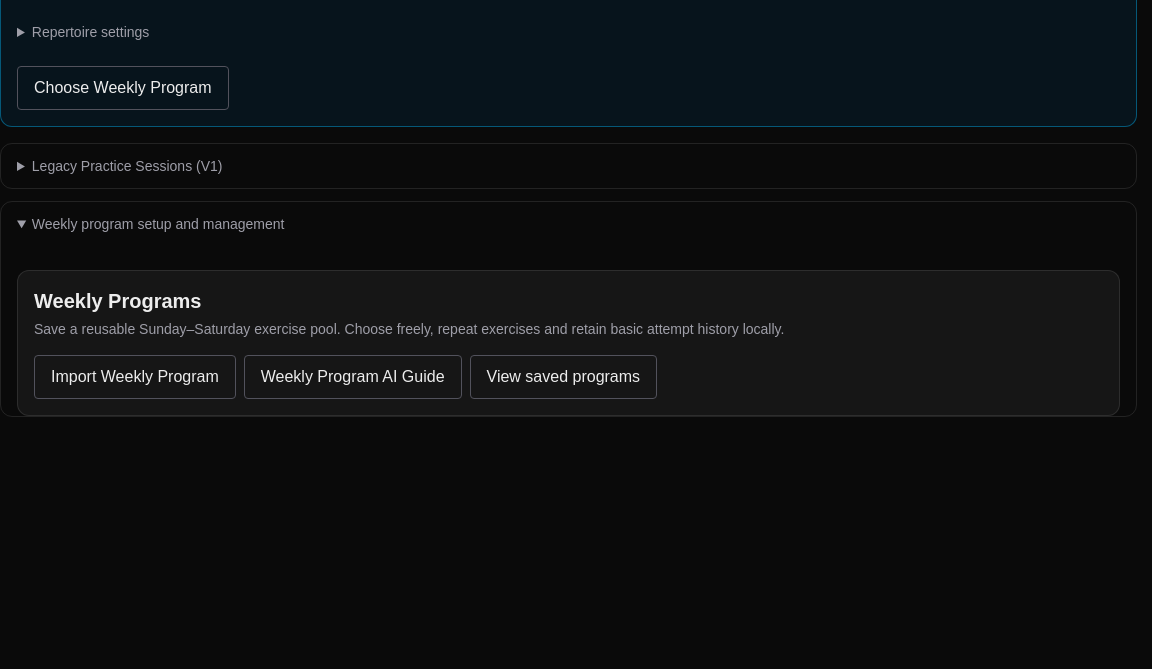
one-action morning launch through the existing V2 owner › does not designate a preferred program when definitions are viewed or manually practiced
What coordinates should you click on to do the following:
click the button "View saved programs"
I would click on:
 (563, 377)
Its box is [470,355,657,399].
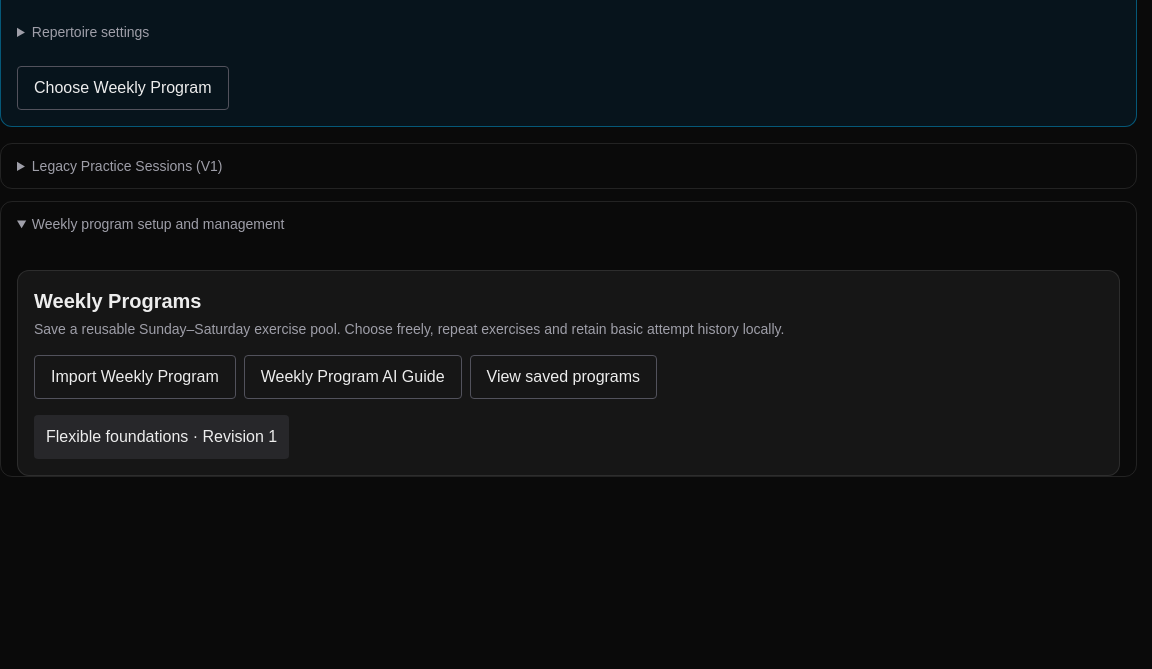
What coordinates should you click on to do the following:
click the button "Flexible foundations · Revision 1"
I would click on:
 (162, 437)
Its box is [34,415,289,459].
(page scrolled)
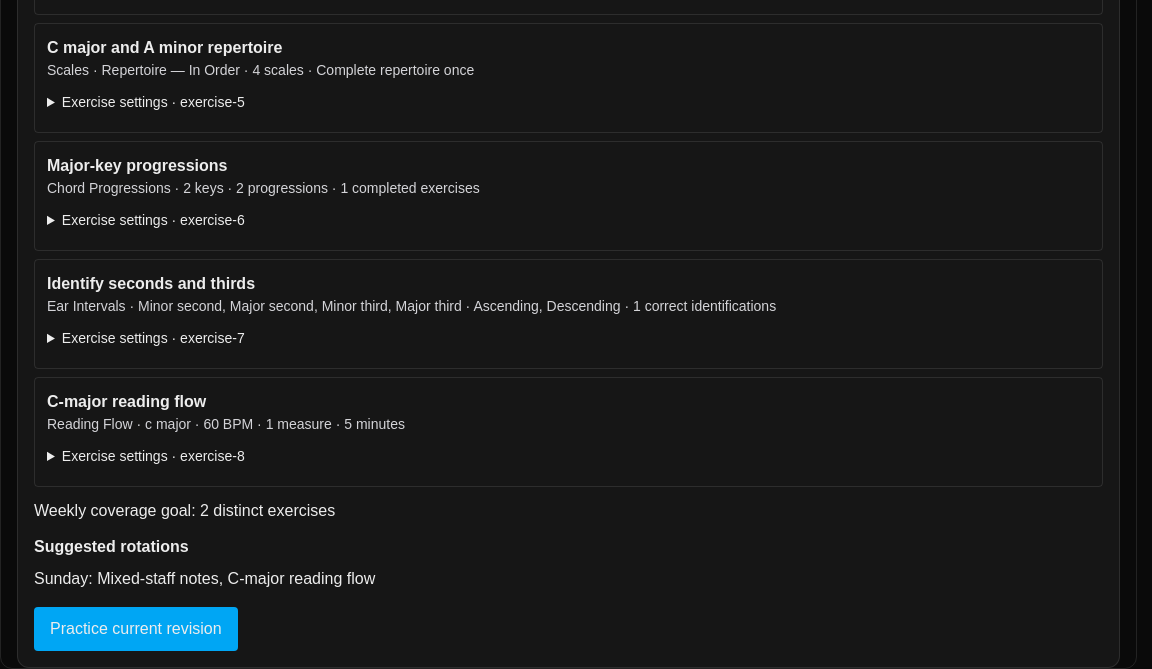
What coordinates should you click on to do the following:
click the button "Practice current revision"
I would click on:
 (136, 629)
Its box is [34,607,238,651].
(page scrolled)
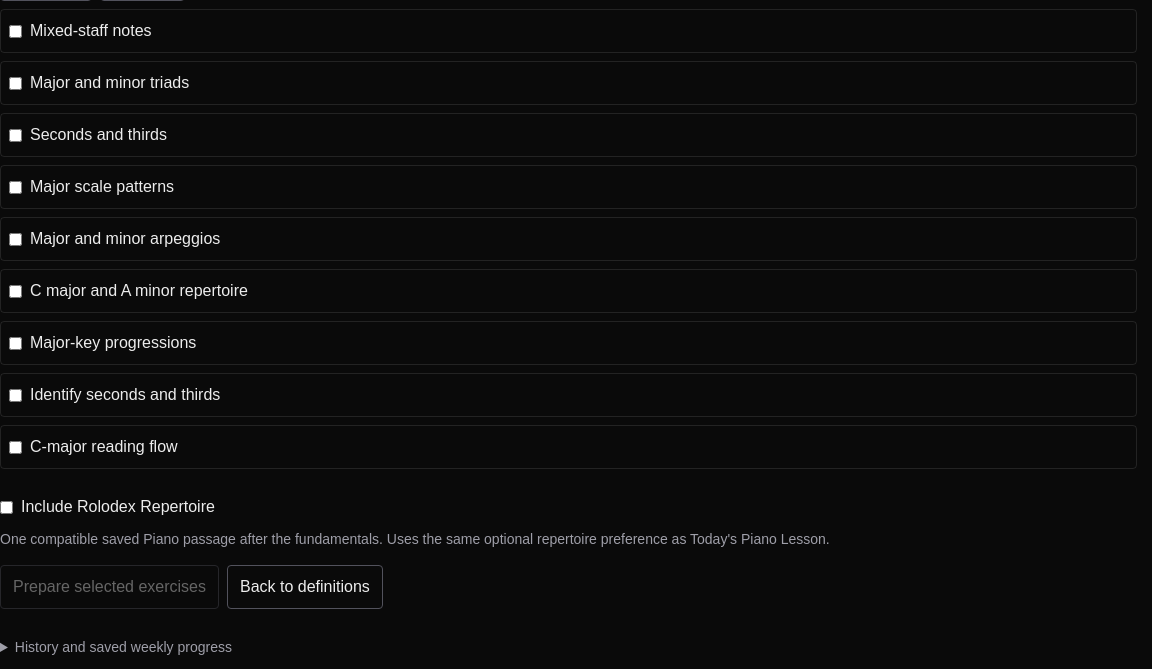
What coordinates should you click on to do the following:
click the checkbox labelled "Mixed-staff notes"
I would click on:
 (16, 31)
Its box is [9,24,22,38].
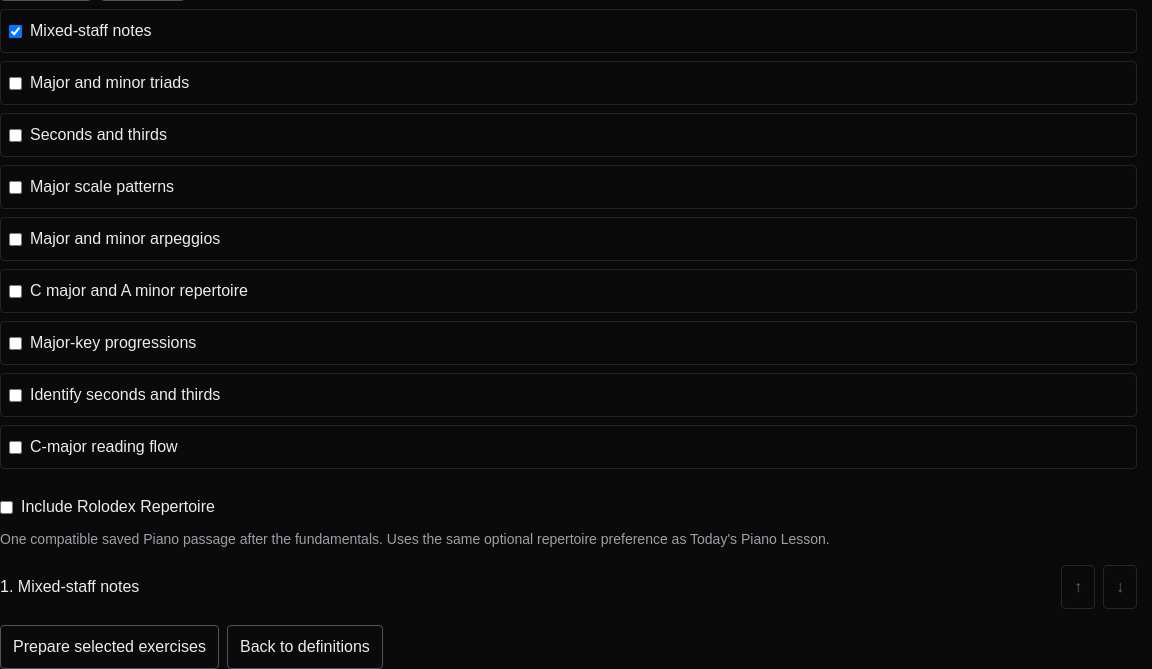
What coordinates should you click on to do the following:
click the button "Prepare selected exercises"
I would click on:
 (110, 647)
Its box is [0,625,219,668].
(page scrolled)
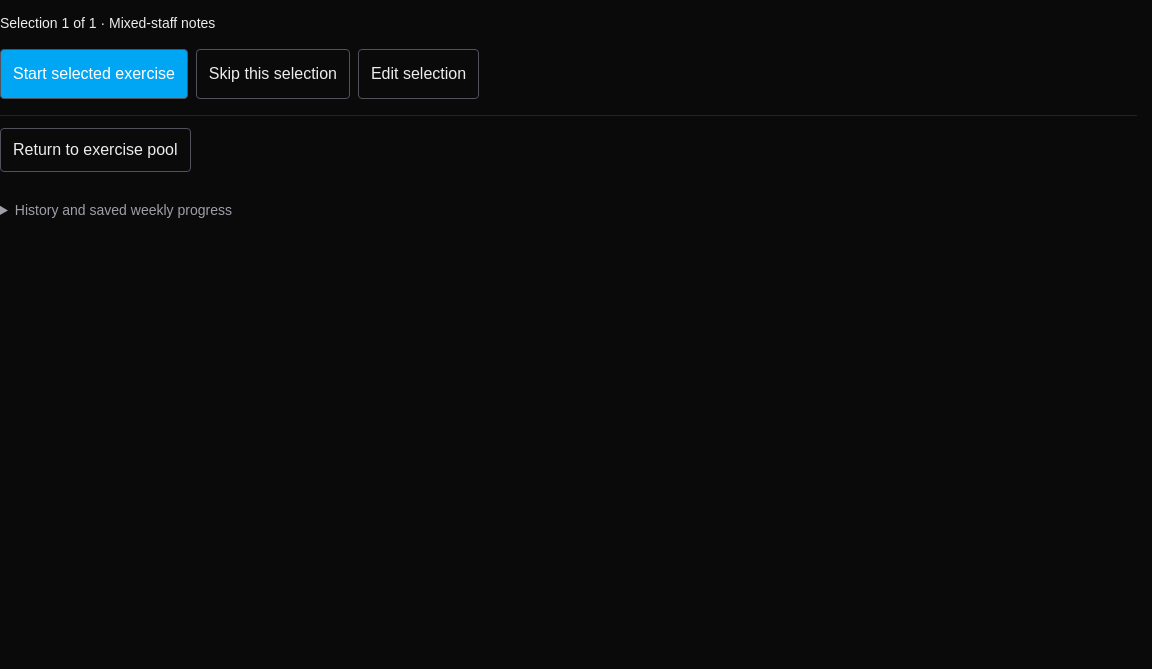
What coordinates should you click on to do the following:
click the button "Start selected exercise"
I would click on:
 (94, 74)
Its box is [0,49,188,99].
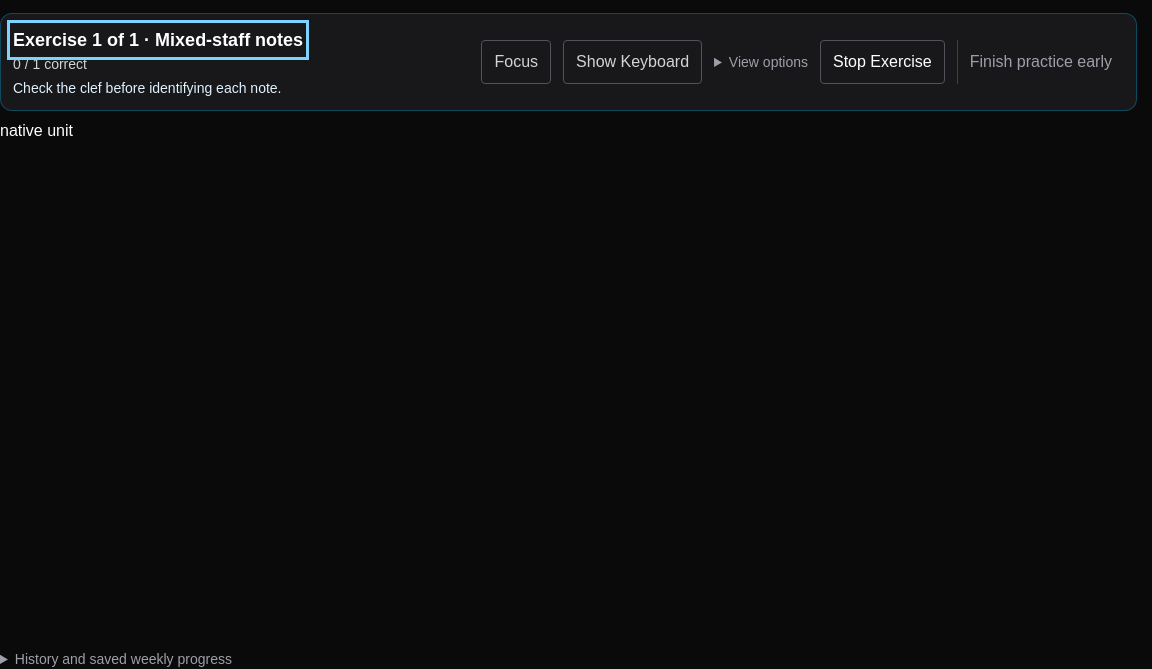
Expected: the element with test id "native" is shown, [0,119,73,143]
